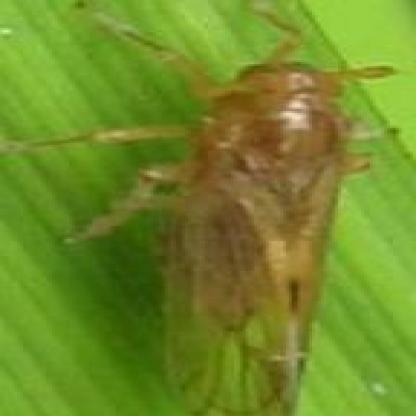brown-planthopper: (162, 48, 340, 412)
